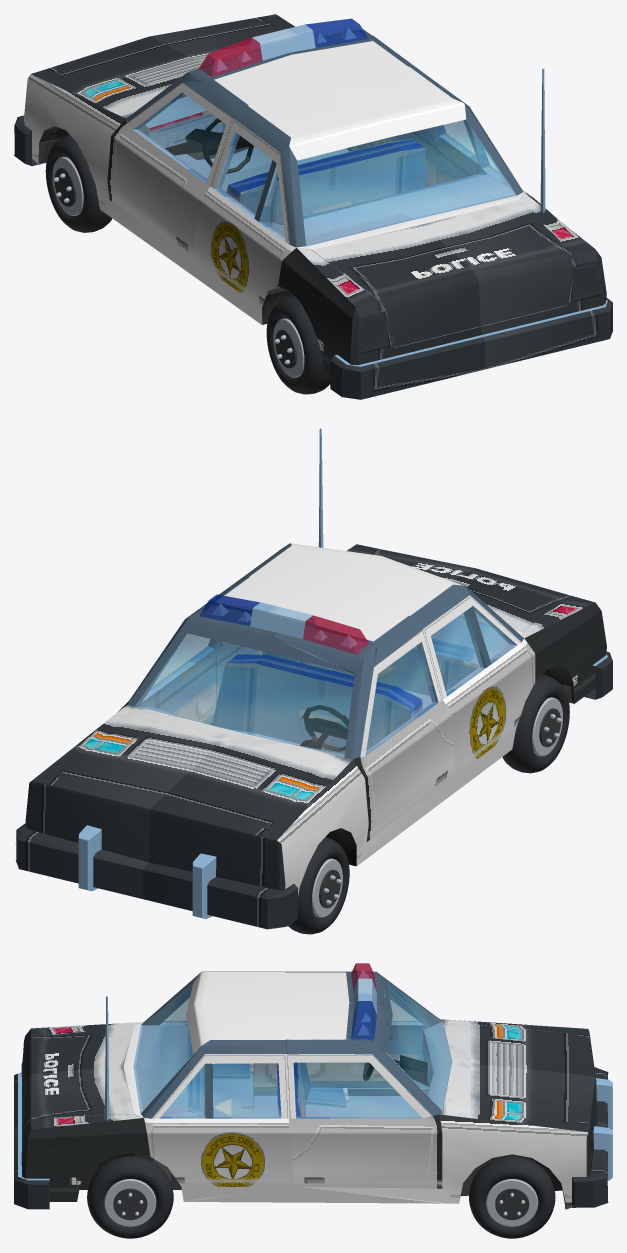
Rendered from car-wiggu_v.glb.
The picture shows the model from 3 angles, top to bottom: view 1: azimuth 30°, elevation 25°; view 2: azimuth 150°, elevation 25°; view 3: azimuth 270°, elevation 25°; orthographic projection. The views are drawn at different scales.
Visible parts, largest first — view 1: wiggu_vShape.006, TrunkRotShape.032, wiggu_vShape.009, wiggu_vShape.002, wiggu_vShape.011, wiggu_vShape.003, HoodRotShape.031, DoorDRotShape.110, wiggu_vShape.008, DoorDRotShape.113, wiggu_vShape.005, Rounded tire.162 (+13 smaller); view 2: wiggu_vShape.006, wiggu_vShape.005, wiggu_vShape.009, HoodRotShape.031, wiggu_vShape.003, wiggu_vShape.011, DoorDRotShape.110, TrunkRotShape.032, wiggu_vShape.008, DoorDRotShape.113, DoorPRotShape.120, Rounded tire.162 (+12 smaller); view 3: wiggu_vShape.006, wiggu_vShape.009, HoodRotShape.031, wiggu_vShape.003, wiggu_vShape.011, DoorPRotShape.119, wiggu_vShape.004, TrunkRotShape.032, wiggu_vShape.008, wiggu_vShape.005, DoorPRotShape.122, Rounded tire.163 (+14 smaller).
Boxes of the visible parts, x1,y1,x2,y2 form: wiggu_vShape.006: (85,24,607,366); TrunkRotShape.032: (312,199,572,347); wiggu_vShape.009: (180,94,515,244); wiggu_vShape.002: (297,192,612,399); wiggu_vShape.011: (214,41,466,160); wiggu_vShape.003: (24,74,295,325); HoodRotShape.031: (55,20,281,114); DoorDRotShape.110: (107,123,210,260); wiggu_vShape.008: (278,193,595,374); DoorDRotShape.113: (136,93,225,180); wiggu_vShape.005: (14,14,294,166); Rounded tire.162: (266,296,330,394); wiggu_vShape.006: (78,543,607,918); wiggu_vShape.005: (15,704,352,929); wiggu_vShape.009: (135,610,513,757); HoodRotShape.031: (56,706,343,828); wiggu_vShape.003: (30,638,535,895); wiggu_vShape.011: (216,543,463,641); DoorDRotShape.110: (360,700,454,841); TrunkRotShape.032: (369,549,571,631); wiggu_vShape.008: (524,602,606,703); DoorDRotShape.113: (366,643,435,752); DoorPRotShape.120: (134,576,248,724); Rounded tire.162: (502,675,569,773); wiggu_vShape.006: (18,971,612,1180); wiggu_vShape.009: (136,983,451,1117); HoodRotShape.031: (442,1022,578,1122); wiggu_vShape.003: (181,1020,588,1203); wiggu_vShape.011: (186,972,349,1053); DoorPRotShape.119: (289,1116,442,1188); wiggu_vShape.004: (144,1114,442,1187); TrunkRotShape.032: (22,1026,133,1150); wiggu_vShape.008: (25,1026,150,1201); wiggu_vShape.005: (440,1019,608,1207); DoorPRotShape.122: (294,1063,420,1116); Rounded tire.163: (87,1156,173,1238).
Size of the model in its own units: 2.62 by 2.37 by 5.39.
Materials: 16 (13 with a texture image).
